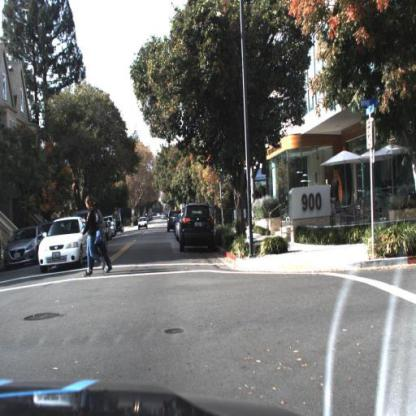car: (38, 217, 91, 276), (180, 203, 216, 253), (6, 226, 42, 268), (91, 213, 109, 256), (168, 211, 178, 235), (138, 215, 152, 232), (139, 217, 149, 232), (107, 223, 114, 241), (117, 221, 125, 236)
pedestrian: (81, 196, 113, 279), (91, 206, 108, 274), (324, 176, 333, 188), (322, 178, 332, 186)
